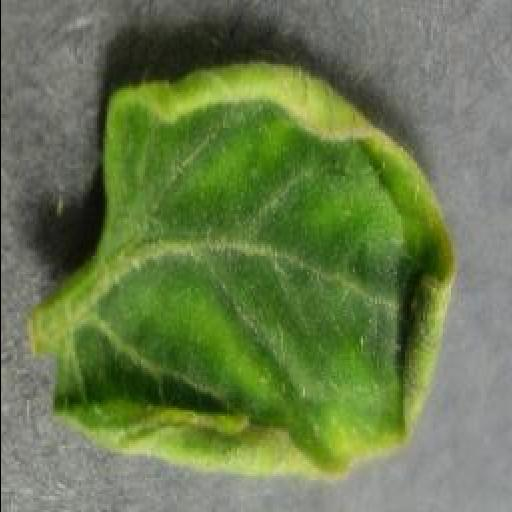disease_tomato: (54, 58, 458, 484)
